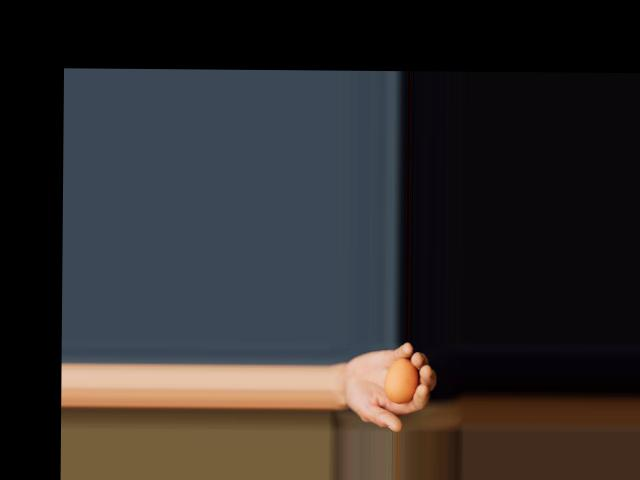egg: (384, 357, 417, 403)
